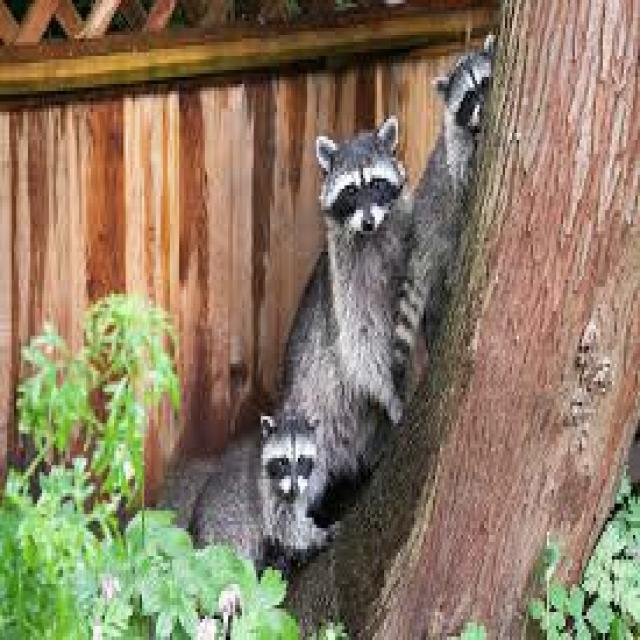raccoon: (277, 115, 407, 469), (391, 35, 493, 399), (191, 416, 333, 563)
